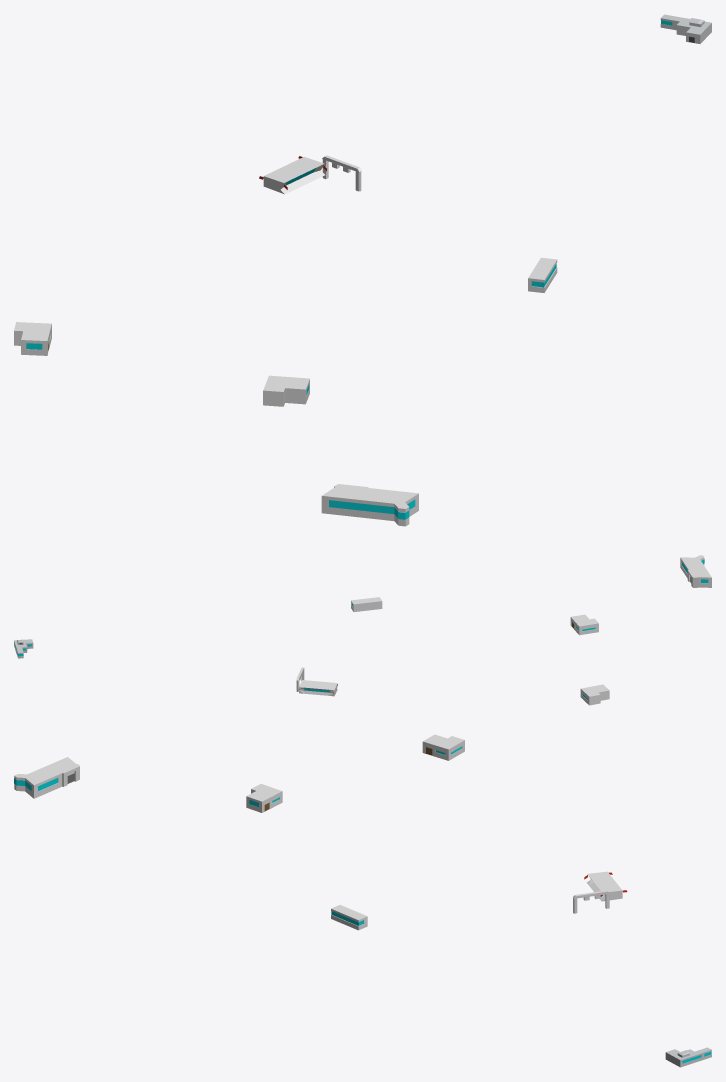
The model's file is Edificios.fbx.
The picture shows the model from 3 angles, top to bottom: view 1: azimuth 30°, elevation 25°; view 2: azimuth 150°, elevation 25°; view 3: azimuth 270°, elevation 25°; orthographic projection. The views are drawn at different scales.
Parts seen in each view (by area): view 1: Cubo.009, Cubo, Cubo.001, Cubo.002, Cubo.006; view 2: Cubo.009, Cubo, Cubo.002, Cubo.001, Cubo.004, Cubo.006; view 3: Cubo.009, Cubo.002, Cubo.001, Cubo, Cubo.006, Cubo.004.
Boxes of the visible parts, <box> form: Cubo.009: <box>321,484,418,526</box>; Cubo: <box>259,155,326,194</box>; Cubo.001: <box>263,375,309,406</box>; Cubo.002: <box>14,322,51,355</box>; Cubo.006: <box>660,14,711,43</box>; Cubo.009: <box>680,555,711,587</box>; Cubo: <box>298,680,337,696</box>; Cubo.002: <box>580,684,609,705</box>; Cubo.001: <box>570,614,598,635</box>; Cubo.004: <box>351,597,382,611</box>; Cubo.006: <box>14,639,33,658</box>; Cubo.009: <box>14,757,79,798</box>; Cubo.002: <box>422,734,464,760</box>; Cubo.001: <box>246,784,282,812</box>; Cubo: <box>584,871,627,901</box>; Cubo.006: <box>665,1047,711,1067</box>; Cubo.004: <box>331,905,367,930</box>.
Size of the model in its own units: 23553 by 623 by 21647.
